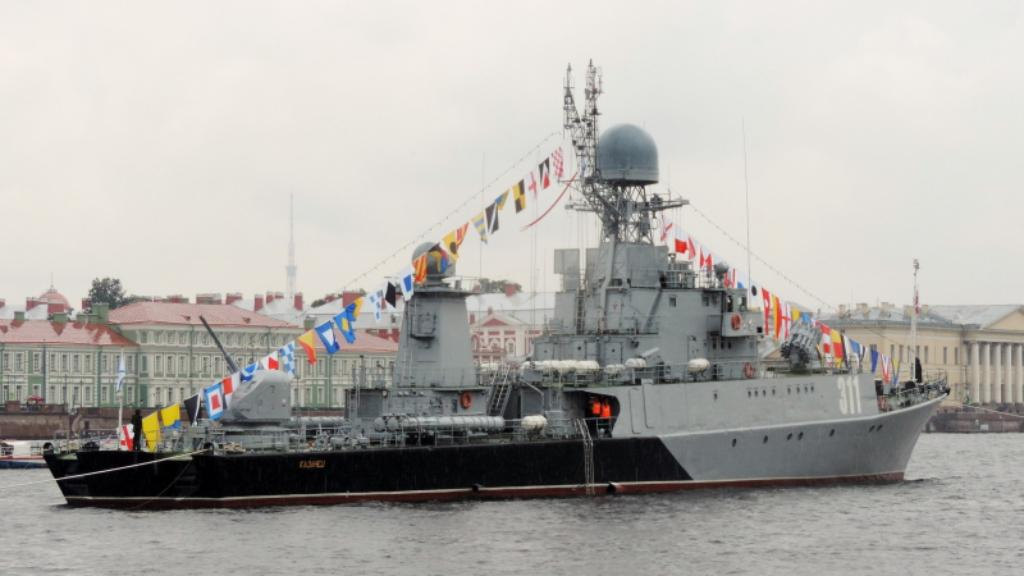Warship: (39, 55, 953, 508)
